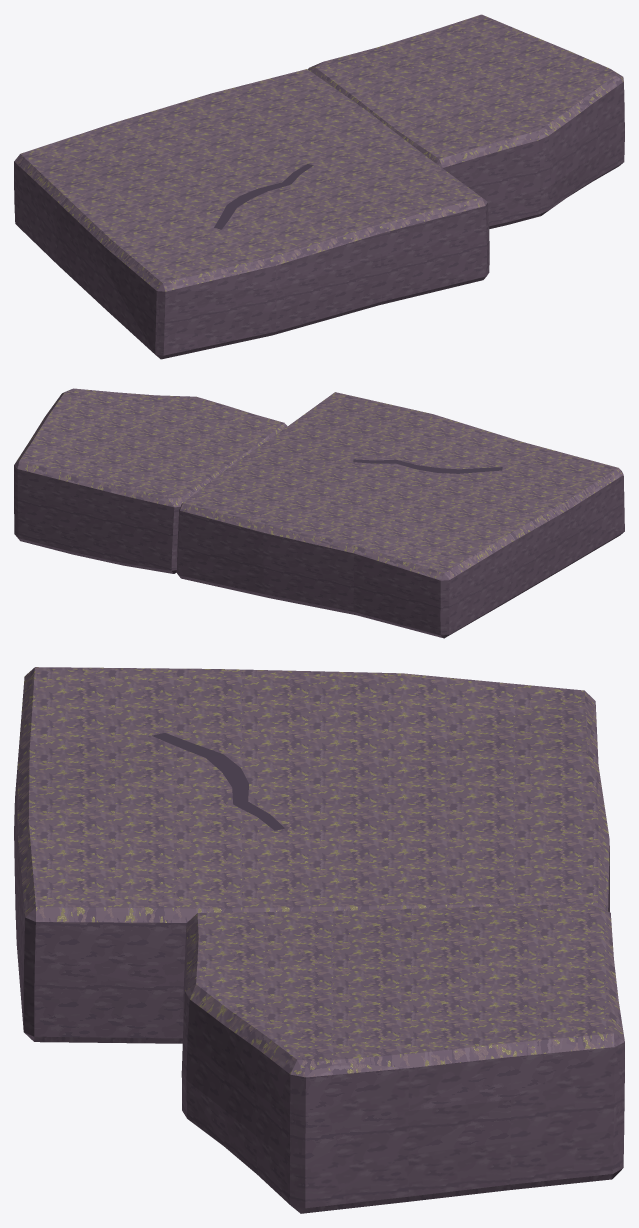
Rendered from A06_Slab_A.fbx.
3 views of the same model, one above another, from view 1: azimuth 30°, elevation 25°; view 2: azimuth 150°, elevation 25°; view 3: azimuth 270°, elevation 25° (orthographic). The views are drawn at different scales.
Visible parts, largest first — view 1: A06A_a, A06A_b, A06A_a_crack; view 2: A06A_a, A06A_b, A06A_a_crack; view 3: A06A_a, A06A_b, A06A_a_crack.
Boxes of the visible parts, x1,y1,x2,y2 form: A06A_a: [14, 69, 489, 359]; A06A_b: [308, 14, 624, 228]; A06A_a_crack: [214, 163, 313, 229]; A06A_a: [176, 392, 624, 638]; A06A_b: [14, 388, 287, 573]; A06A_a_crack: [353, 459, 502, 473]; A06A_a: [14, 667, 609, 1043]; A06A_b: [181, 903, 624, 1213]; A06A_a_crack: [152, 733, 284, 830].
Bounding box in the file's own units: 3.79 × 0.6226 × 2.24.
